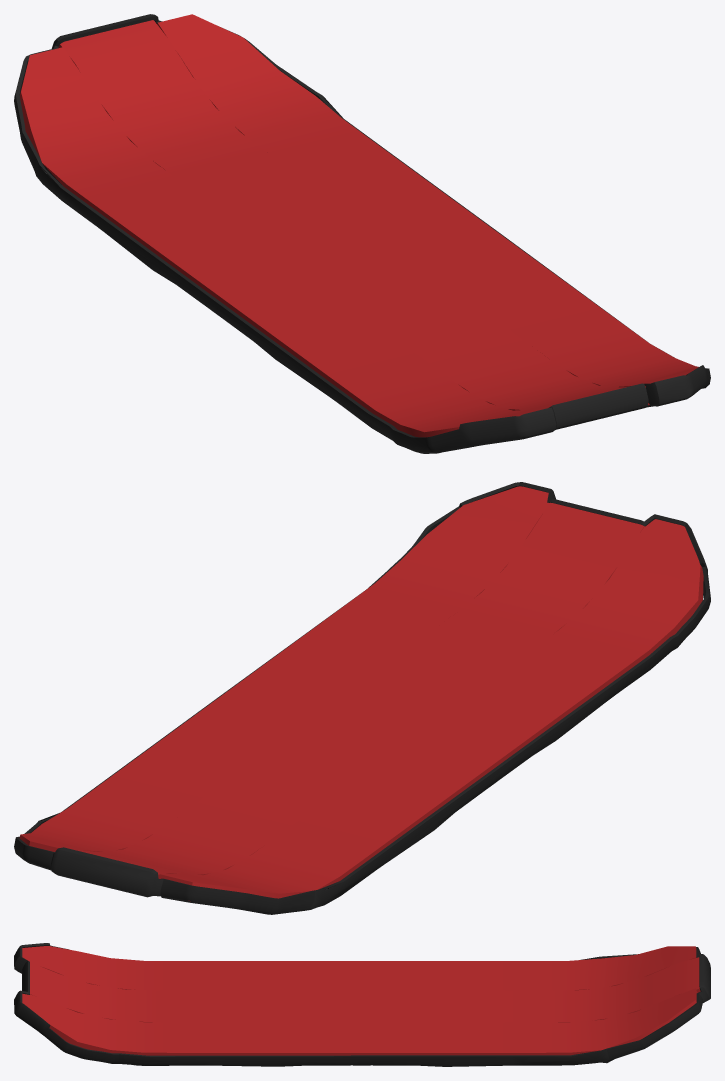
The model's file is skateboard.glb.
3 renders of one model, top to bottom at view 1: azimuth 30°, elevation 25°; view 2: azimuth 150°, elevation 25°; view 3: azimuth 270°, elevation 25°, orthographic. The views are drawn at different scales.
Visible parts, largest first — view 1: Cube.003, Circle.001; view 2: Cube.003, Circle.001; view 3: Cube.003, Circle.001.
Part boxes in pixels (x1,y1,x2,y2): Cube.003: (20, 14, 698, 437); Circle.001: (14, 14, 710, 453); Cube.003: (19, 486, 703, 901); Circle.001: (14, 482, 710, 914); Cube.003: (22, 946, 700, 1055); Circle.001: (14, 943, 710, 1066).
Size of the model in its own units: 0.3191 by 0.102 by 0.9832.
